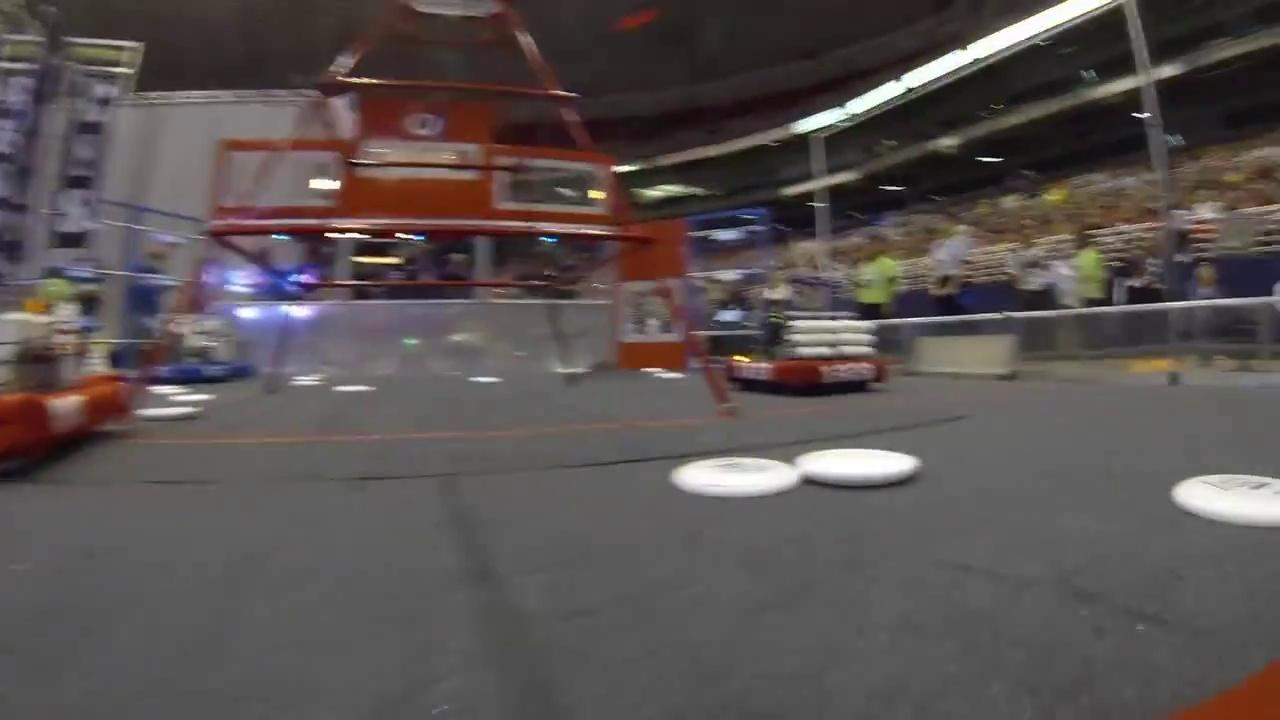robot: (0, 255, 136, 488), (722, 262, 892, 399), (134, 308, 261, 387)
